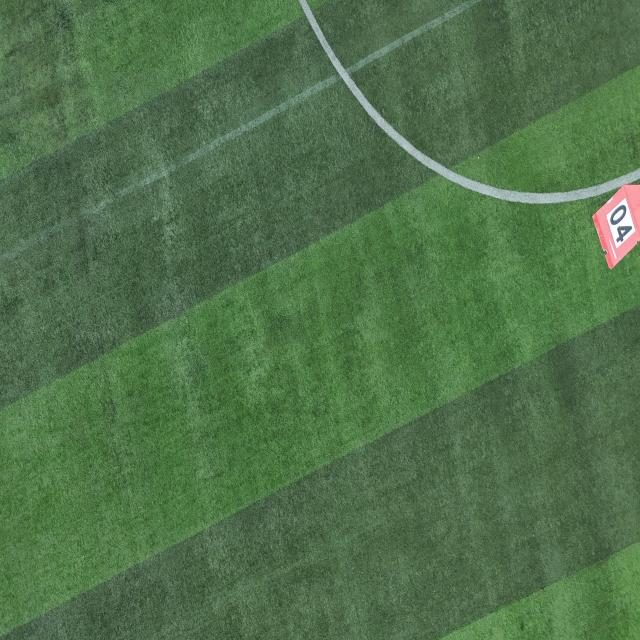board: (591, 182, 640, 270)
